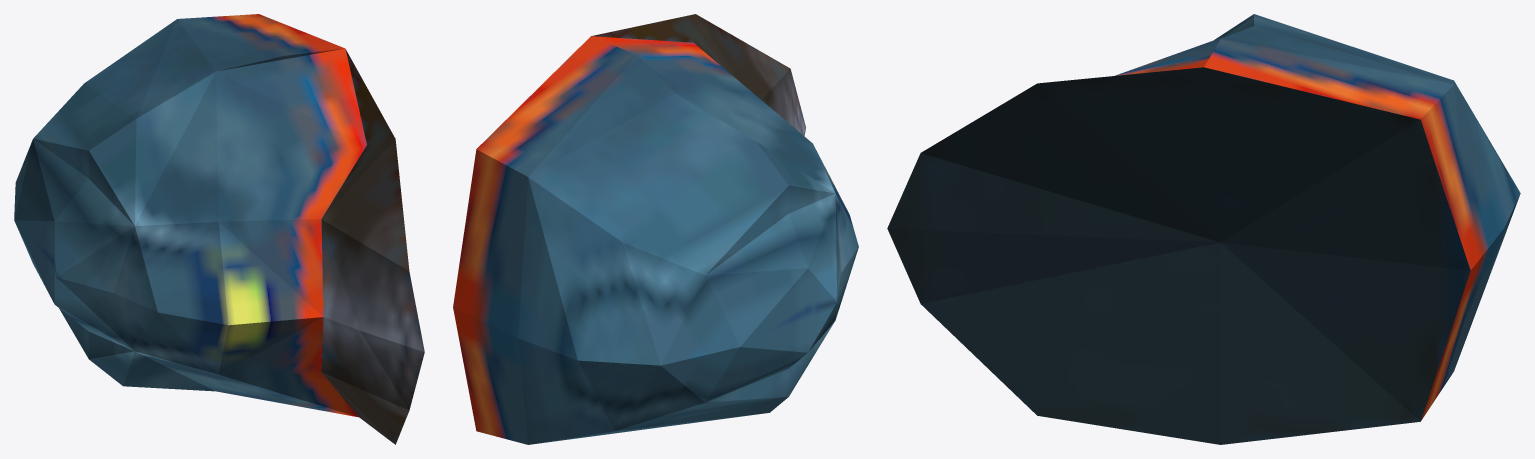
Rendered from XGHELMET.obj.
3 views of the same model, side by side, from view 1: azimuth 30°, elevation 25°; view 2: azimuth 150°, elevation 25°; view 3: azimuth 270°, elevation 25° (orthographic). The views are drawn at different scales.
Visible parts, largest first — view 1: Node 0; view 2: Node 0; view 3: Node 0.
Boxes of the visible parts, <box> form: Node 0: <box>14,14,424,444</box>; Node 0: <box>453,14,858,444</box>; Node 0: <box>887,14,1520,444</box>.
Size of the model in its own units: 0.21 by 0.25 by 0.38.
Materials: 1 (1 with a texture image).
